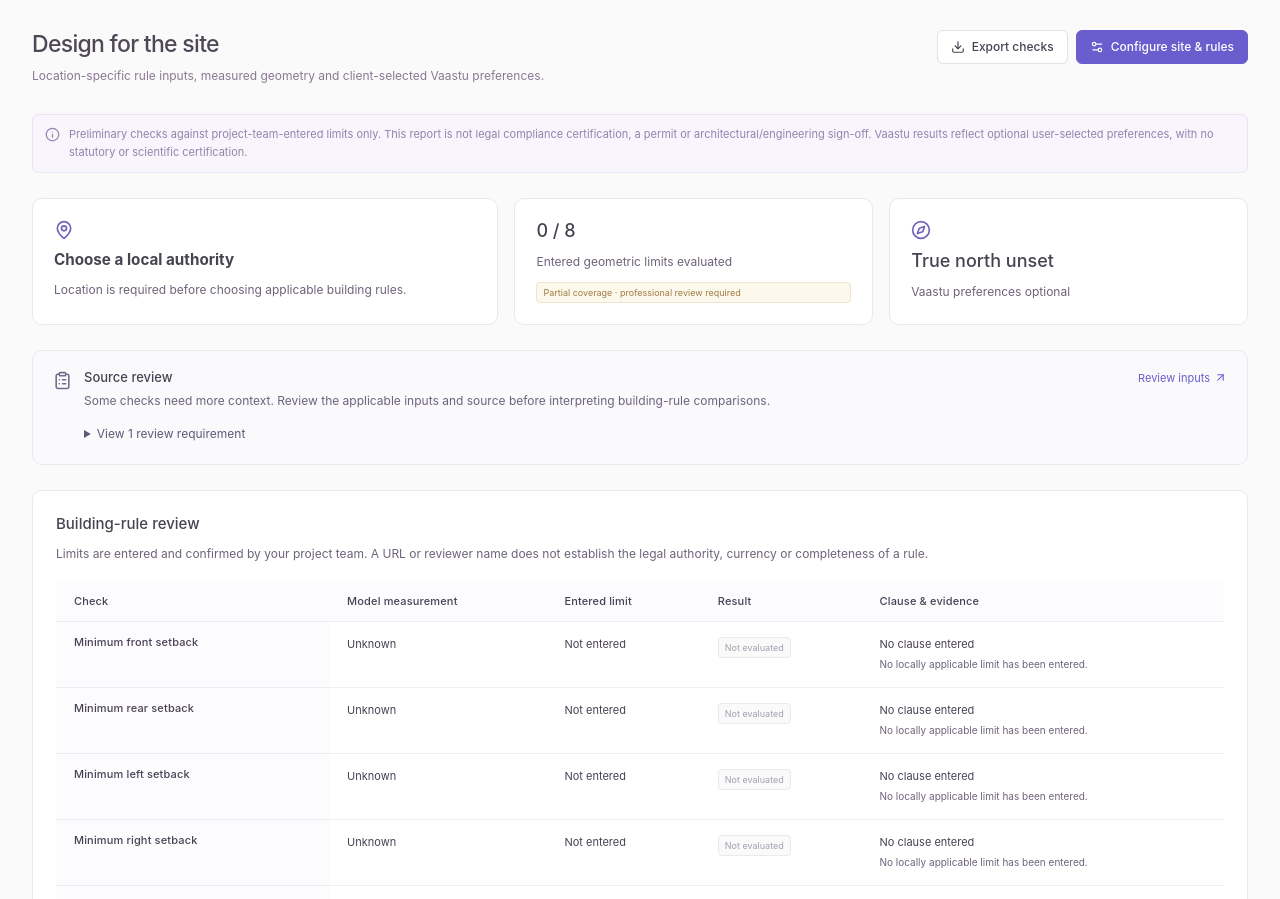
Site configuration and honest review UI › offers an explicit discard decision and keeps draft values when close is cancelled
Click the button "Configure site & rules".
click(1162, 47)  # box [1076,30,1248,64]
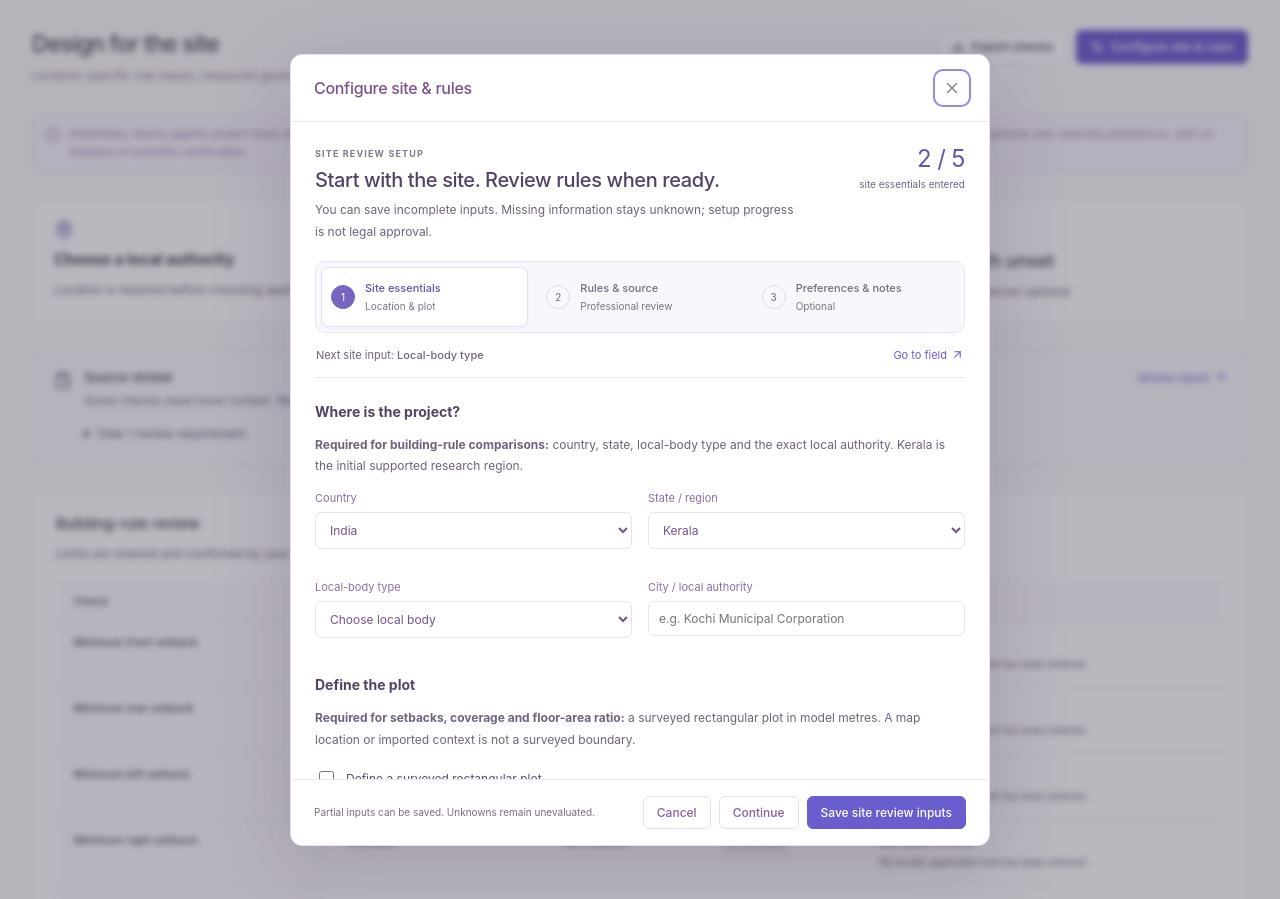
Type "Unsaved authority" into the field labelled "City / local authority".
click(806, 619); type("Unsaved authority")  # box [648,602,965,636]
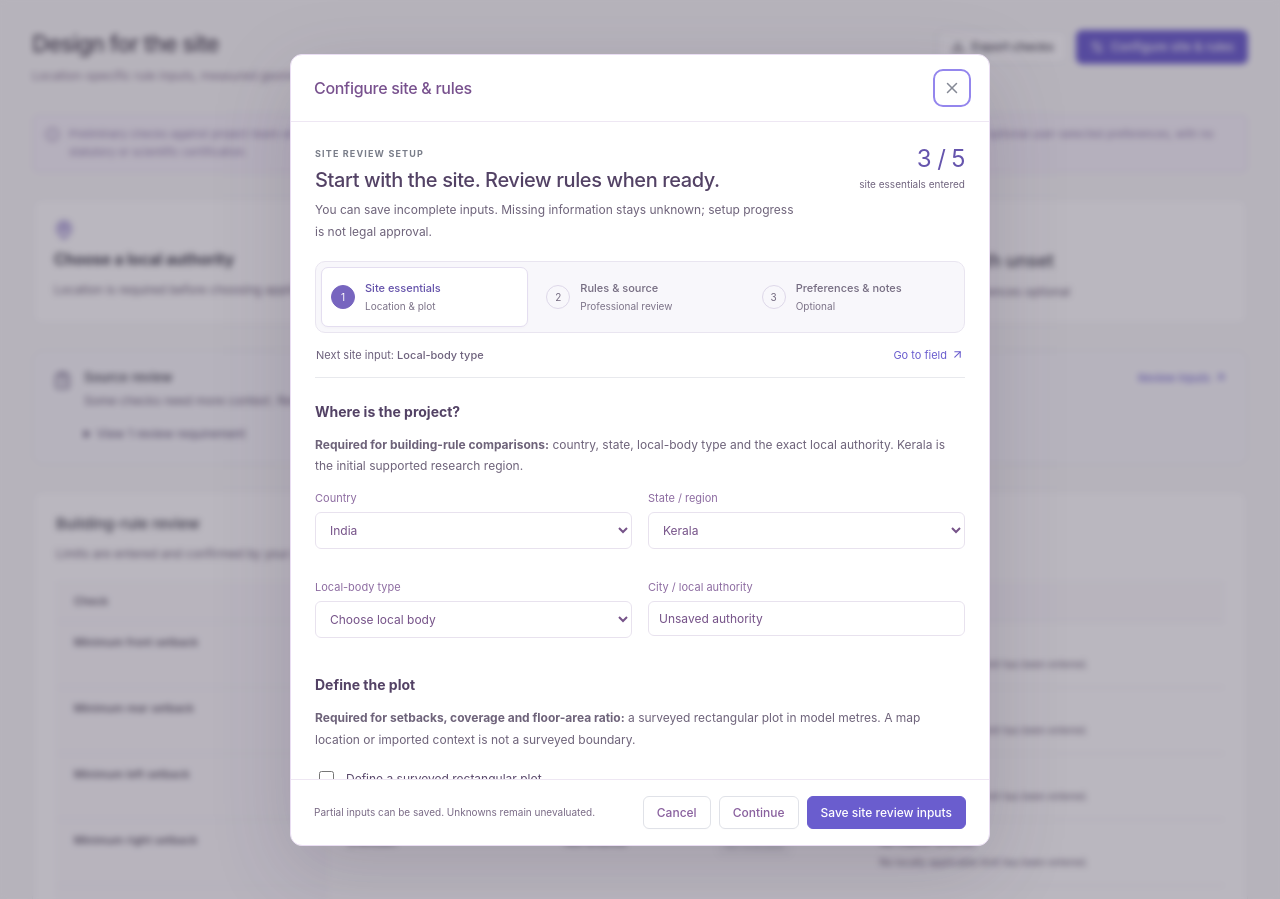
Click the button named "Close dialog".
click(952, 88)  # box [938,74,966,102]
(page scrolled)
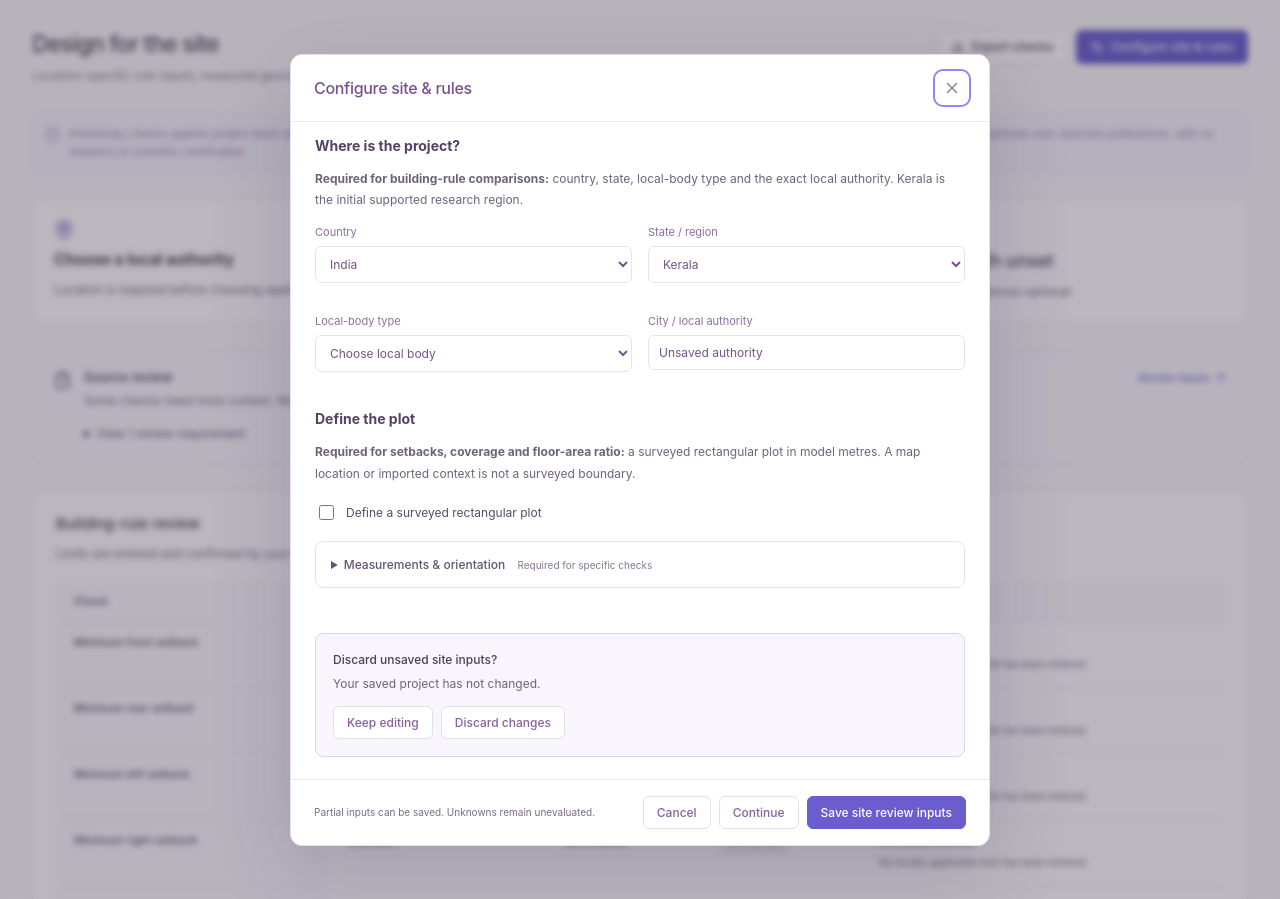
Now the message shows "Discard unsaved site inputs?", box [333,652,497,667]
Click the button "Keep editing".
click(383, 723)  # box [333,706,433,740]
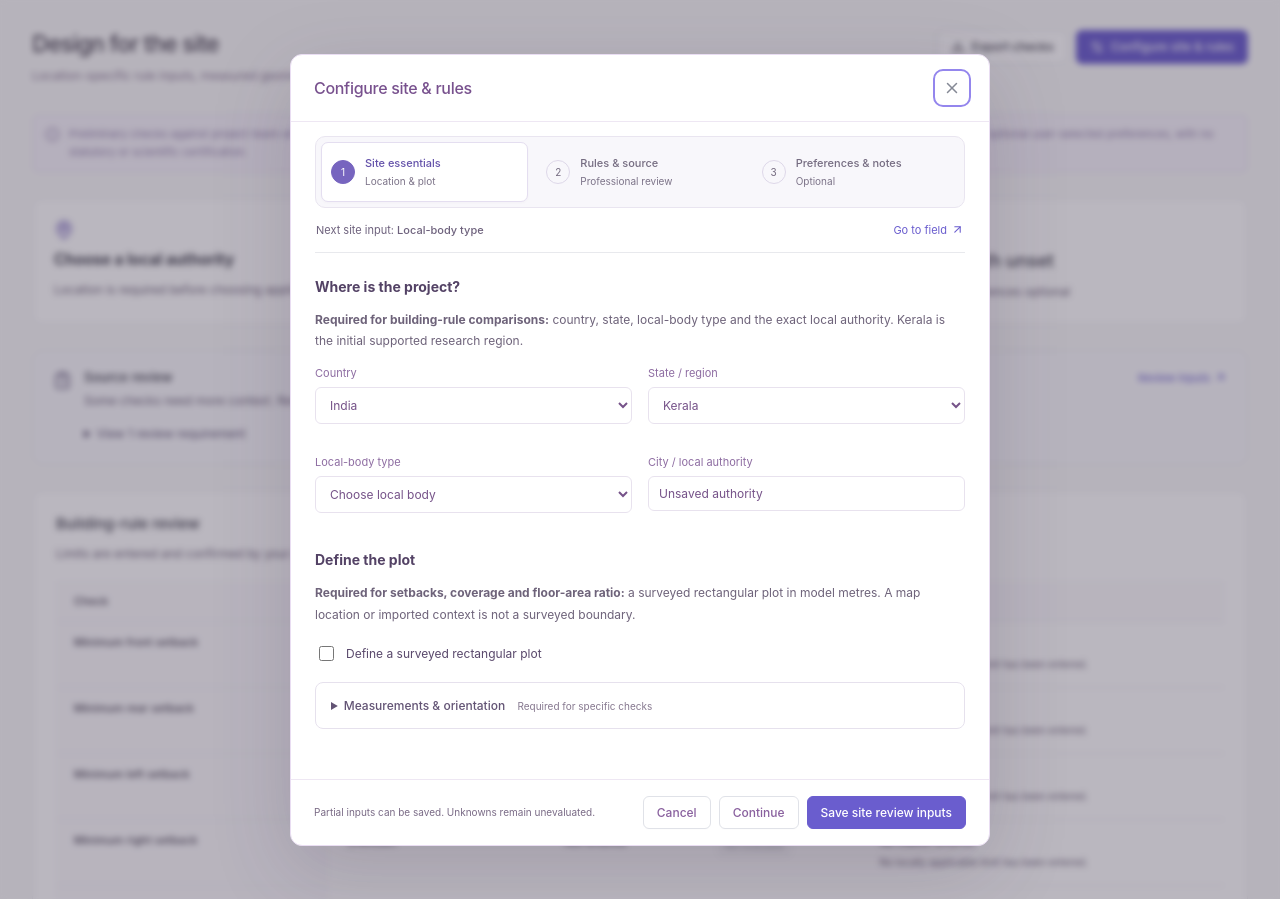
Click the button "Cancel".
click(677, 812)  # box [643,796,711,829]
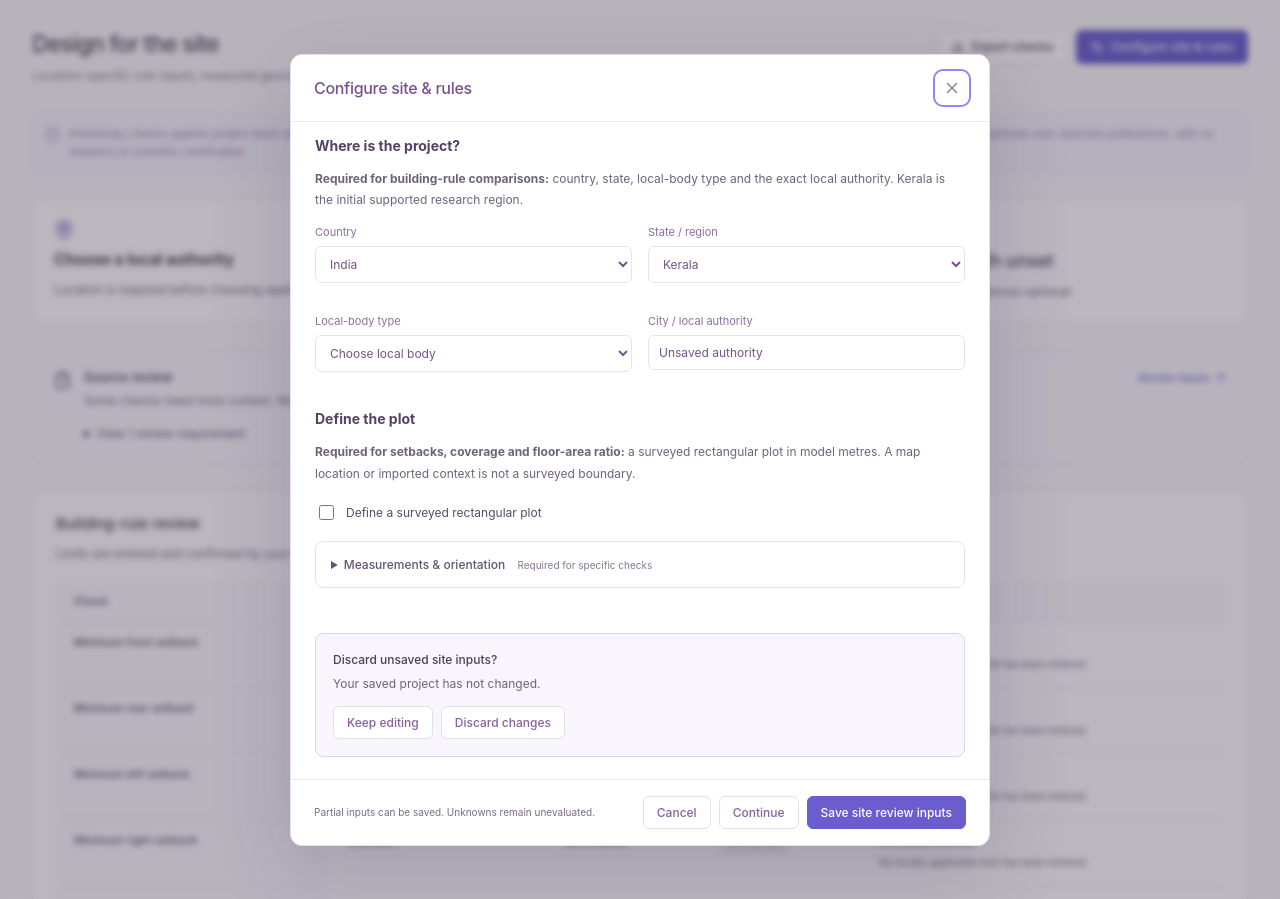
Click the button "Discard changes".
click(503, 723)  # box [441,706,565,740]
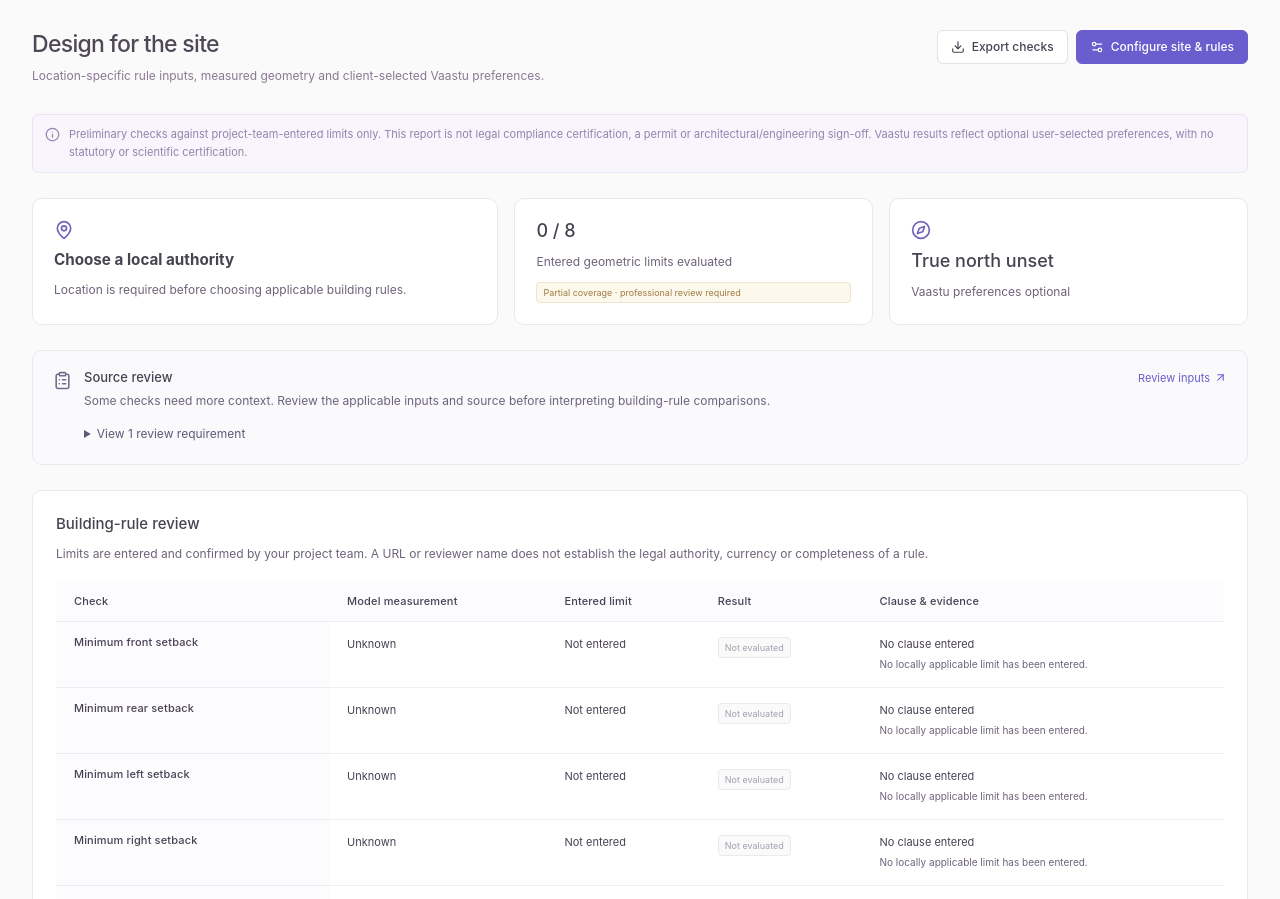
Now the dialog is gone
